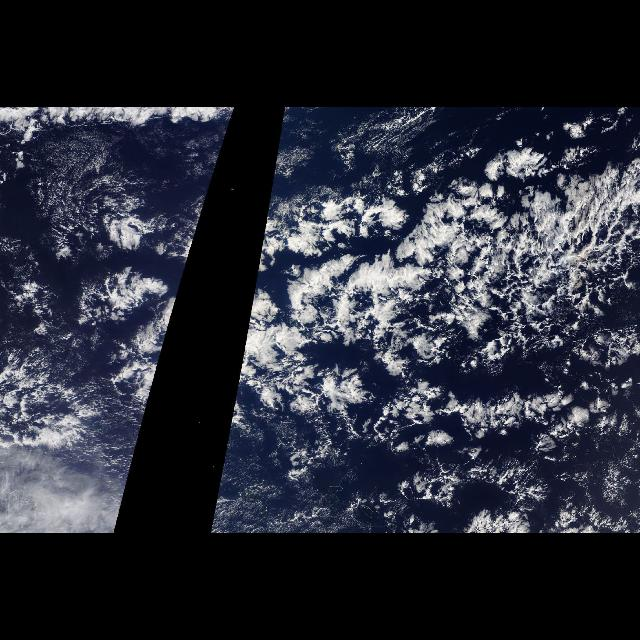Fish: (228, 159, 626, 435)
Gravel: (376, 198, 630, 370)
Sugar: (0, 126, 162, 272)
